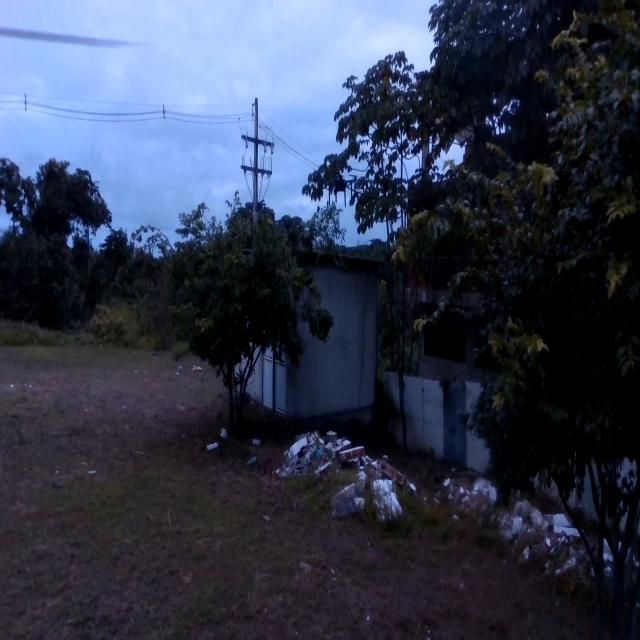-uav-: (318, 167, 362, 218)
